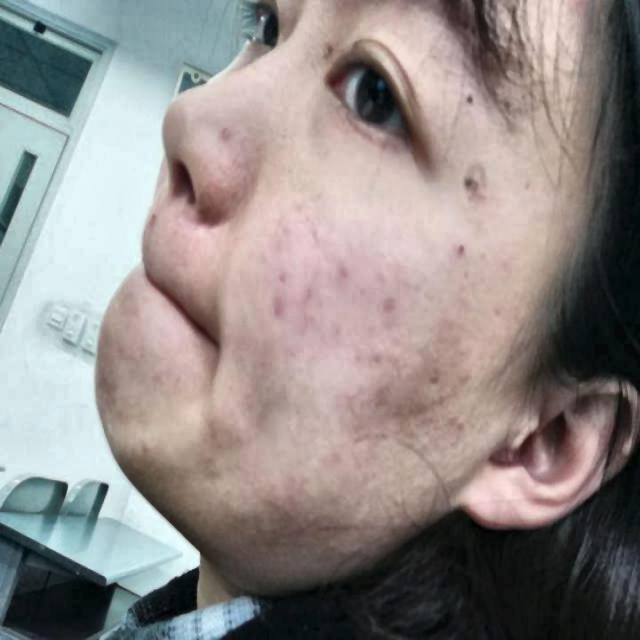comedone: (451, 228, 473, 260)
